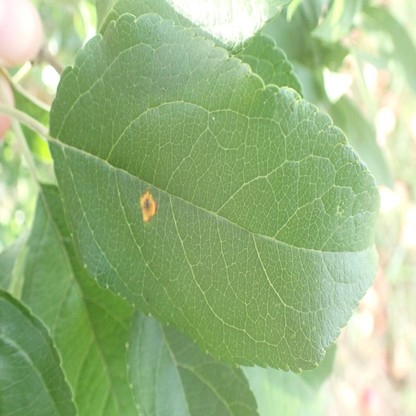rust: (140, 190, 157, 222)
